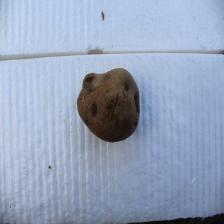Diseased-fungal potato: (75, 66, 142, 144)
